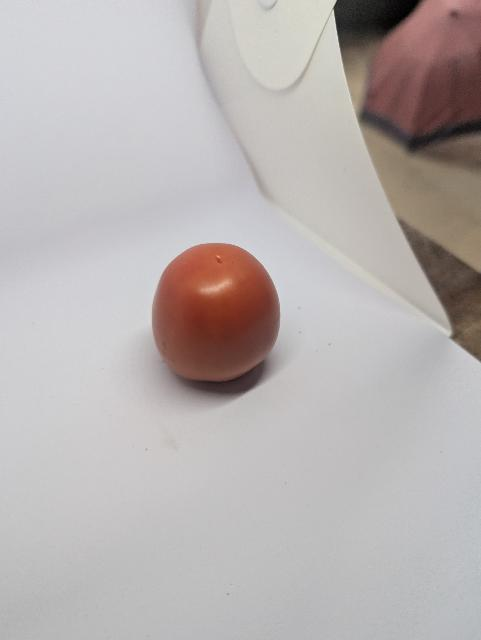red: (144, 234, 291, 397)
